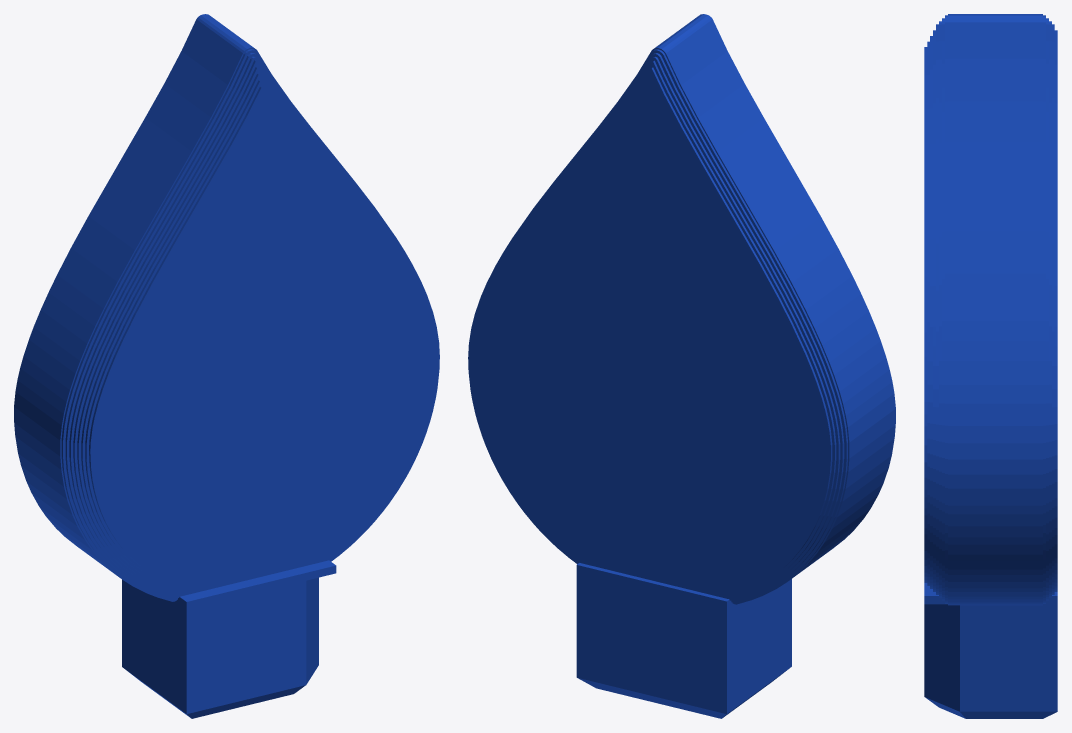
The model's file is glyph-water@water.glb.
The picture shows the model from 3 angles, left to right: view 1: azimuth 30°, elevation 25°; view 2: azimuth 150°, elevation 25°; view 3: azimuth 270°, elevation 25°; orthographic projection. The views are drawn at different scales.
Visible parts, largest first — view 1: geometry_0; view 2: geometry_0; view 3: geometry_0.
Boxes of the visible parts, x1,y1,x2,y2 form: geometry_0: (14,14,439,718); geometry_0: (468,14,895,718); geometry_0: (924,14,1057,718).
Size of the model in its own units: 15.21 by 25.01 by 4.5.
